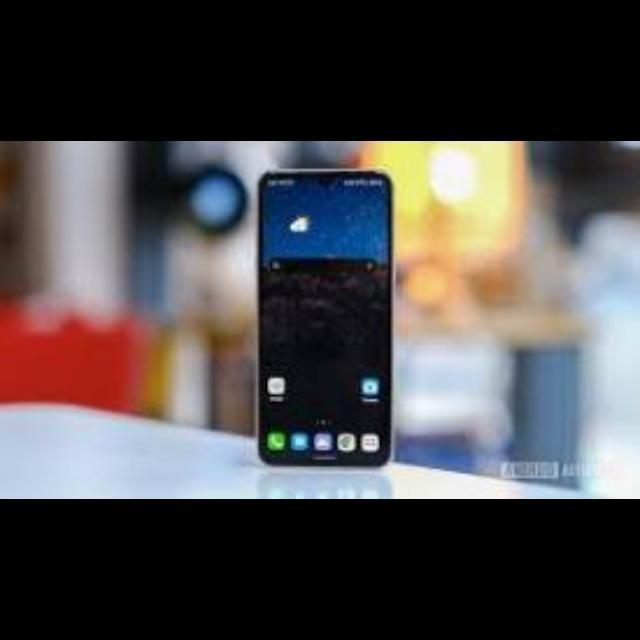phone: (257, 164, 394, 466)
